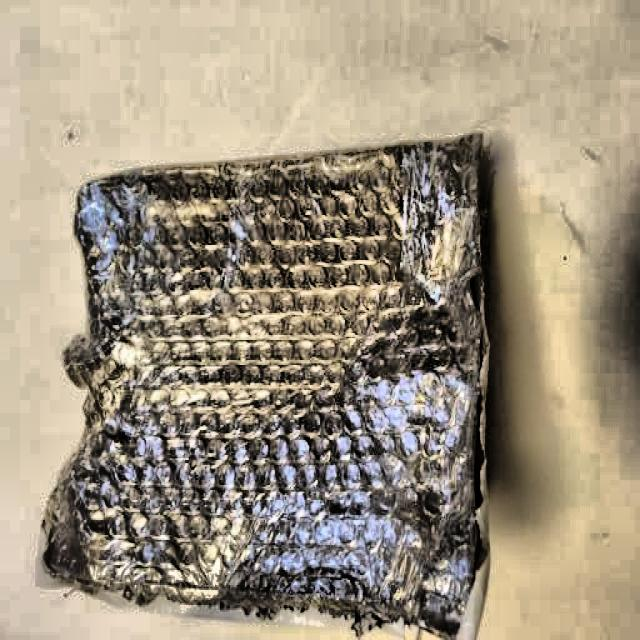trash: (63, 140, 497, 640)
